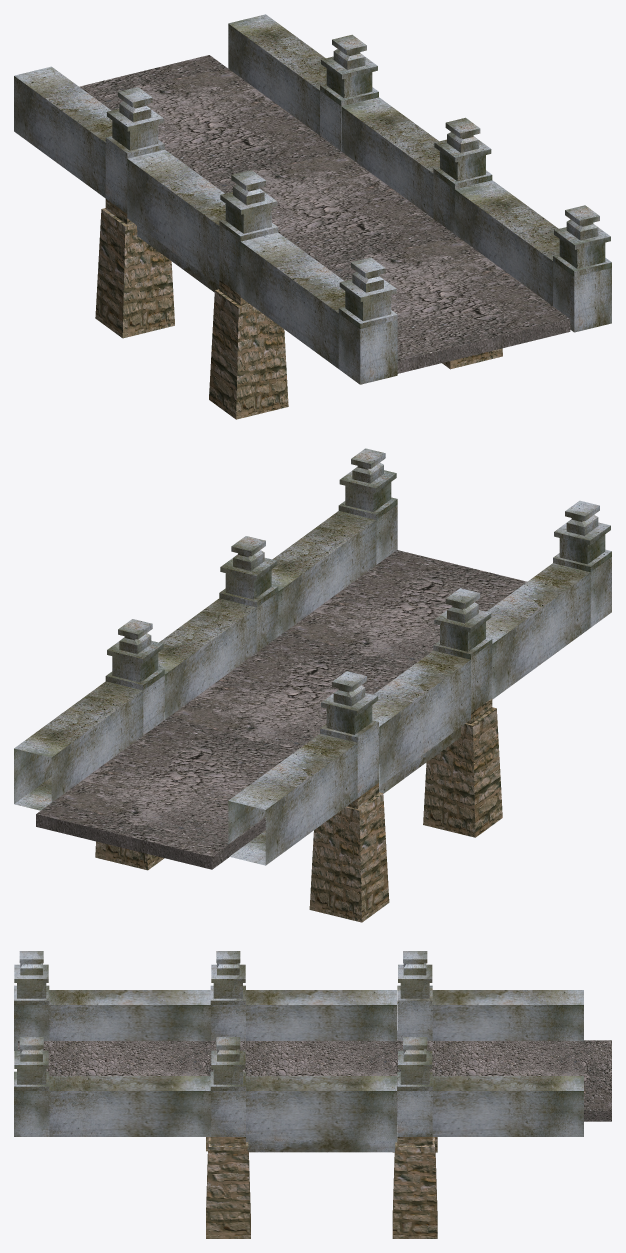
File: level_bridge.FBX
The picture shows the model from 3 angles, top to bottom: view 1: azimuth 30°, elevation 25°; view 2: azimuth 150°, elevation 25°; view 3: azimuth 270°, elevation 25°; orthographic projection. The views are drawn at different scales.
Parts seen in each view (by area): view 1: Bridge, level_bridge; view 2: Bridge, level_bridge; view 3: Bridge, level_bridge.
Part boxes in pixels (left/top/right/bottom): Bridge: left=14, top=14, right=611, bottom=373; level_bridge: left=95, top=91, right=611, bottom=419; Bridge: left=14, top=448, right=611, bottom=869; level_bridge: left=95, top=504, right=611, bottom=922; Bridge: left=14, top=951, right=611, bottom=1152; level_bridge: left=14, top=985, right=437, bottom=1238.
Bounding box in the file's own units: 2961 × 2411 × 6982.
